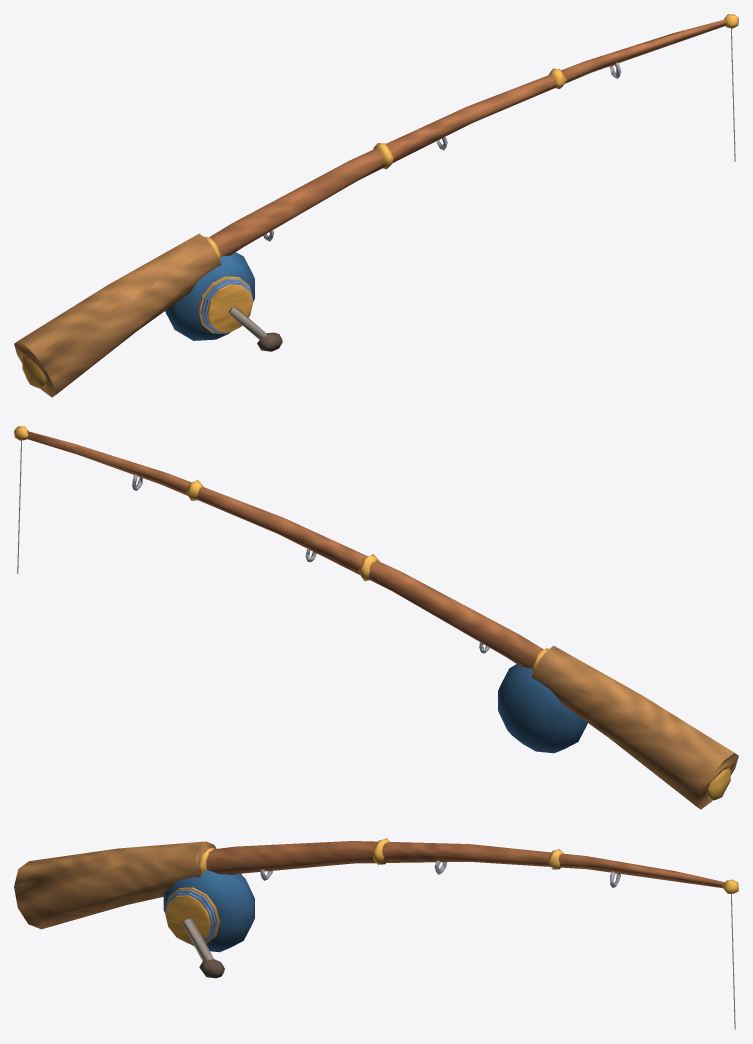
File: fishing_rod.glb
The picture shows the model from 3 angles, top to bottom: view 1: azimuth 30°, elevation 25°; view 2: azimuth 150°, elevation 25°; view 3: azimuth 330°, elevation 25°; orthographic projection.
Visible parts, largest first — view 1: Body; view 2: Body; view 3: Body.
Part boxes in pixels (box(x1,y1,x2,y2)): Body: box(14, 14, 738, 397); Body: box(14, 426, 738, 809); Body: box(14, 838, 738, 1029).
Size of the model in its own units: 1.43 by 0.4047 by 0.1776.
Materials: 1 (1 with a texture image).
